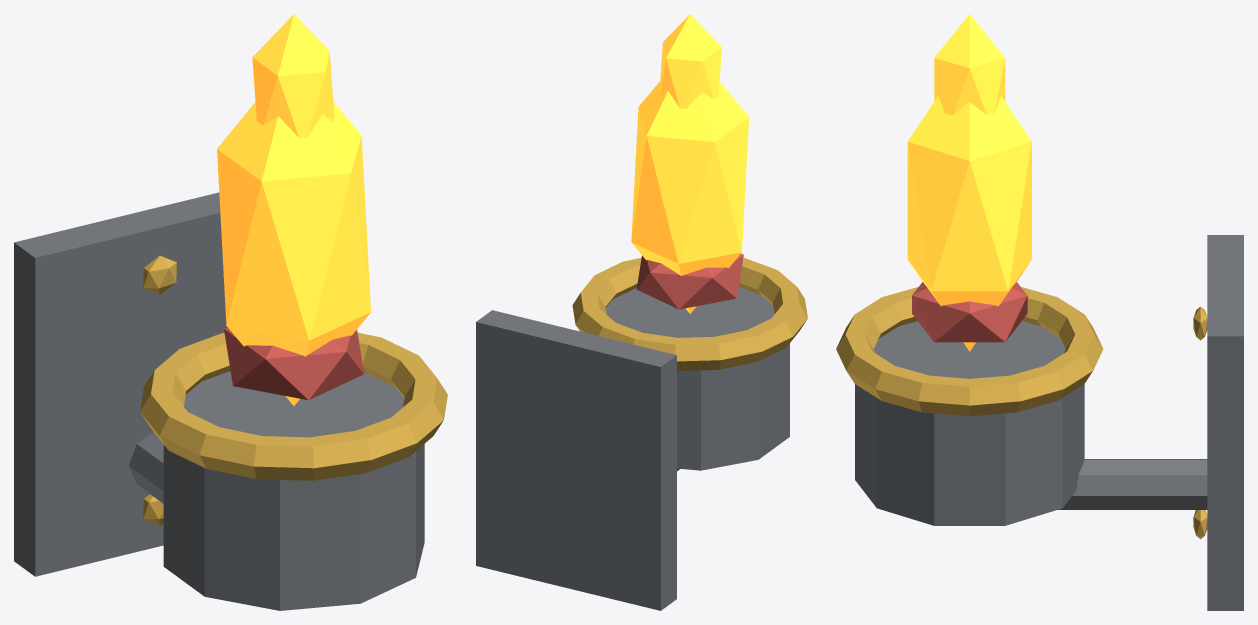
The model's file is torch.glb.
3 views of the same model, side by side, from view 1: azimuth 30°, elevation 25°; view 2: azimuth 150°, elevation 25°; view 3: azimuth 270°, elevation 25° (orthographic). The views are drawn at different scales.
Visible parts, largest first — view 1: wall_backplate, torch_cup, flame_core, cup_rim, flame_tip, ember_base, forged_wall_arm, plate_rivet_0.105; view 2: wall_backplate, flame_core, torch_cup, cup_rim, flame_tip, ember_base; view 3: torch_cup, flame_core, cup_rim, wall_backplate, forged_wall_arm, flame_tip, ember_base.
Part boxes in pixels (bbox=[...]): wall_backplate: bbox=[14, 192, 226, 576]; torch_cup: bbox=[163, 371, 424, 610]; flame_core: bbox=[217, 102, 370, 405]; cup_rim: bbox=[140, 332, 447, 480]; flame_tip: bbox=[252, 14, 334, 137]; ember_base: bbox=[224, 327, 363, 400]; forged_wall_arm: bbox=[129, 432, 163, 503]; plate_rivet_0.105: bbox=[143, 255, 176, 294]; wall_backplate: bbox=[476, 310, 676, 610]; flame_core: bbox=[631, 81, 748, 313]; torch_cup: bbox=[605, 287, 789, 470]; cup_rim: bbox=[572, 257, 807, 370]; flame_tip: bbox=[659, 14, 721, 108]; ember_base: bbox=[636, 253, 743, 309]; torch_cup: bbox=[855, 321, 1084, 525]; flame_core: bbox=[907, 96, 1031, 351]; cup_rim: bbox=[836, 287, 1103, 416]; wall_backplate: bbox=[1207, 235, 1243, 610]; forged_wall_arm: bbox=[1058, 459, 1207, 509]; flame_tip: bbox=[934, 14, 1005, 115]; ember_base: bbox=[912, 282, 1027, 342].
Size of the model in its own units: 0.256 by 0.577 by 0.3905.
